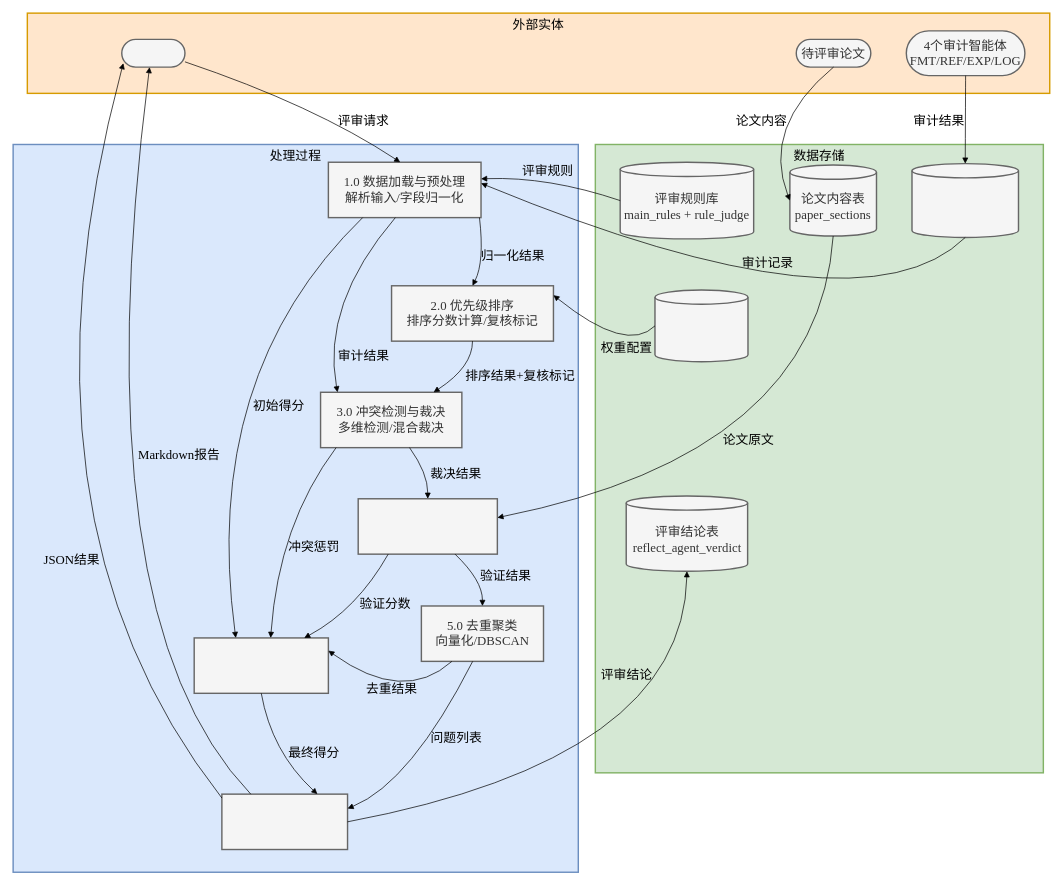
This 1062x885 diagram has some shape labels left out. The shapes that lost their labels are listed below. From the top down, each one's box as (x1, y1, x2, y2) in pixels, then its label:
(121, 38, 185, 67): 评审用户
(911, 163, 1019, 238): 审计结果表 agent_audit_result
(654, 289, 748, 362): 规则配置文件 rule_config.json
(357, 498, 498, 555): 4.0 证据验证 精确匹配/语义匹配
(193, 637, 329, 694): 6.0 评分计算 归一化/惩罚/调整
(221, 793, 348, 850): 7.0 报告生成 Markdown/JSON
